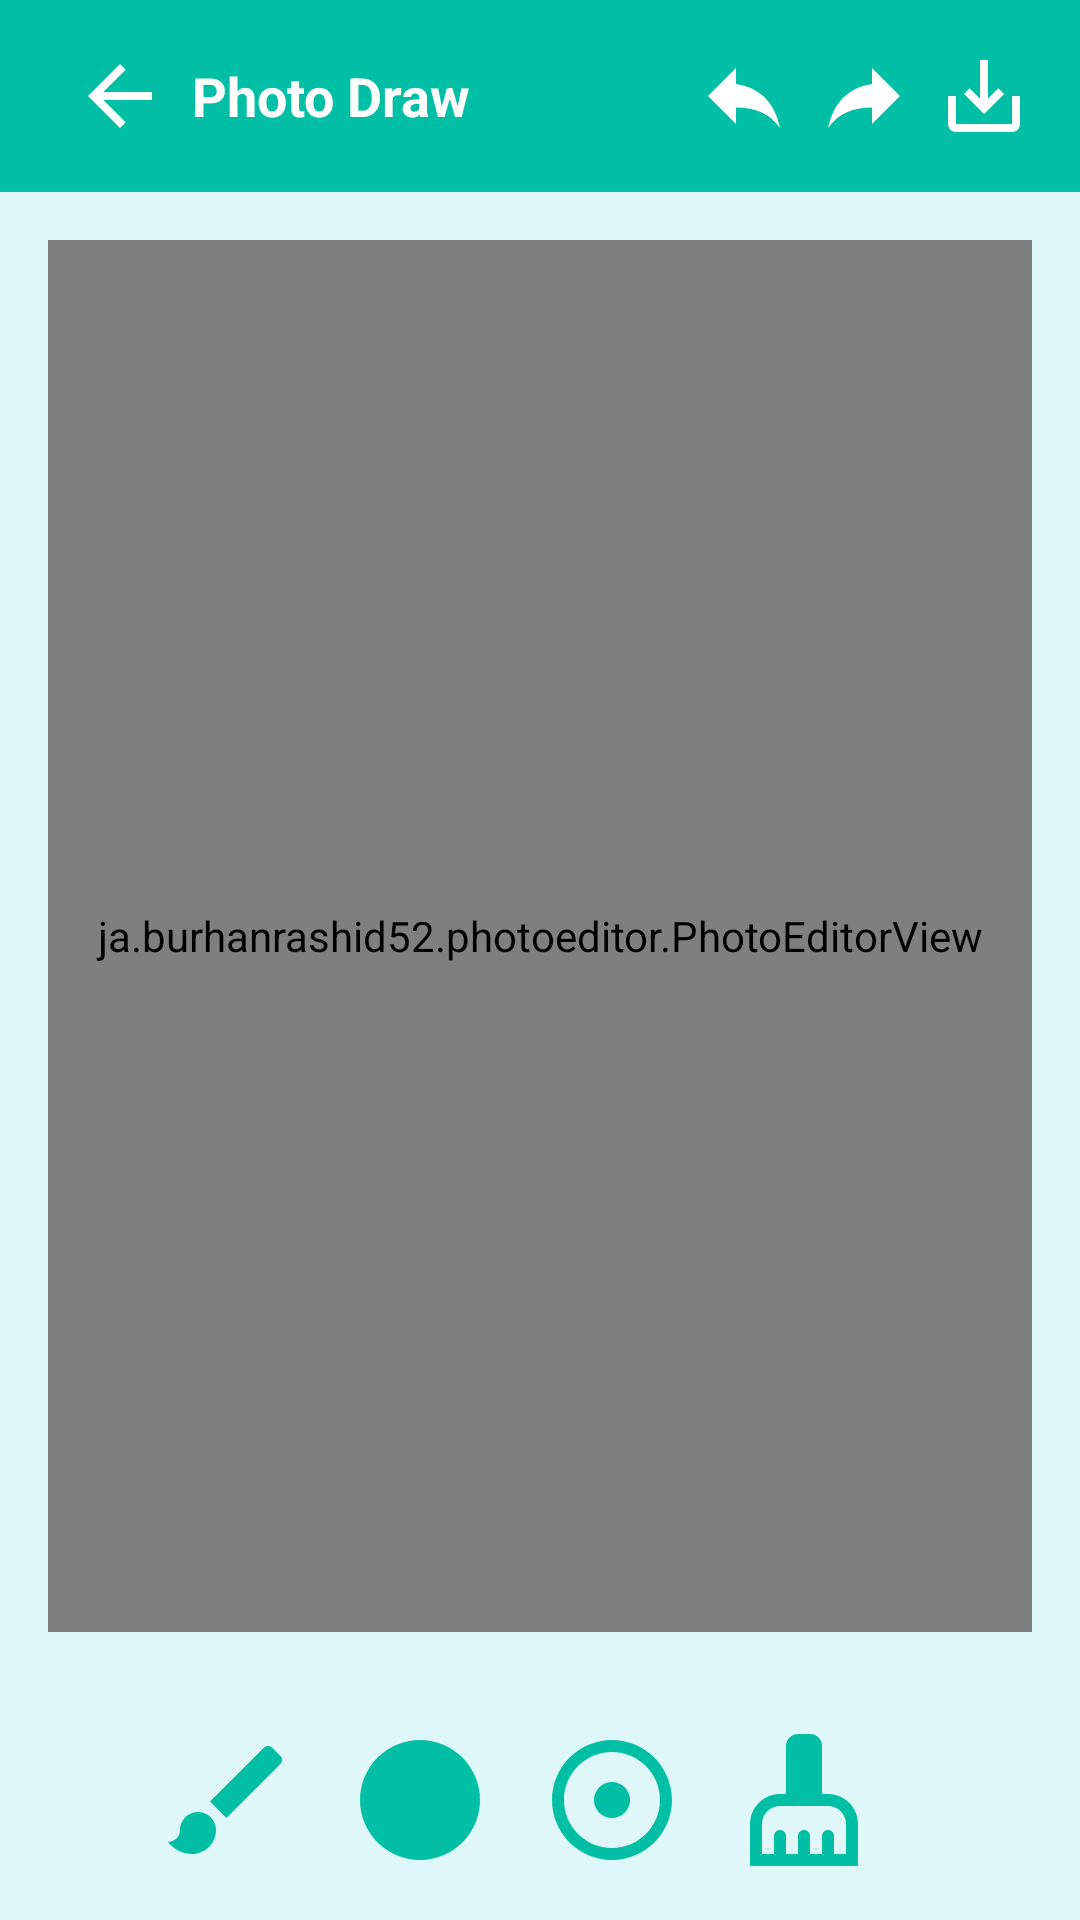

Screen size 1080×1920. Icon name, then its center in pixels as (x,y):
Back: (120,96)
Brush: (225,1800)
Eraser: (804,1800)
Save: (984,96)
Size: (612,1800)
